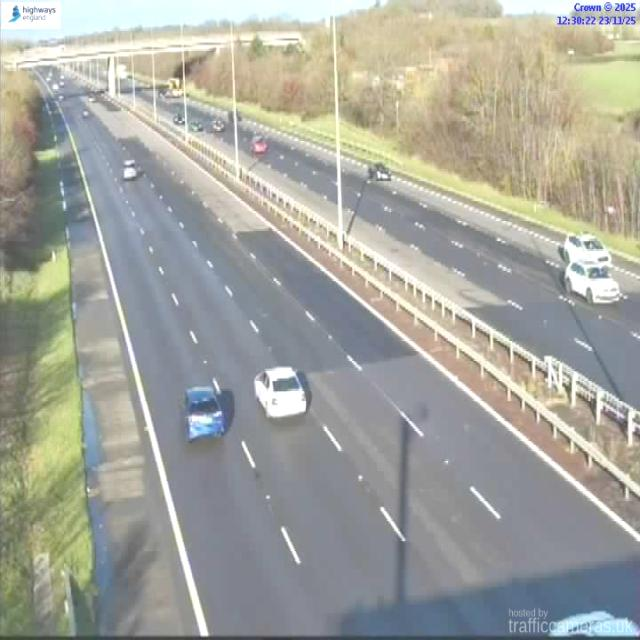foliage: (401, 30, 639, 240), (339, 9, 431, 128), (0, 71, 41, 283), (236, 29, 332, 119), (235, 33, 332, 112), (191, 54, 230, 96), (192, 57, 229, 94)
